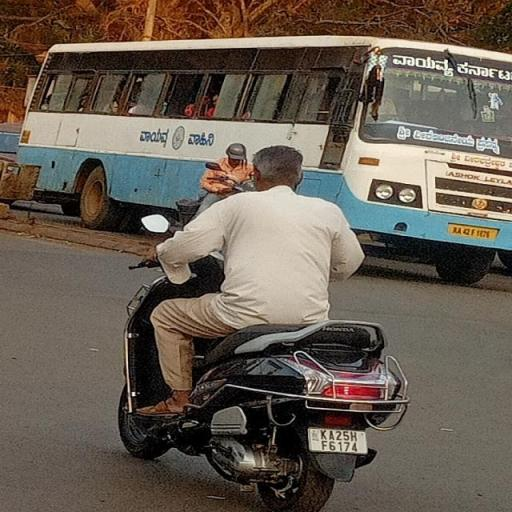bike: (114, 140, 408, 510)
numberplate: (310, 427, 370, 453)
withouthelmet: (253, 145, 303, 187)
